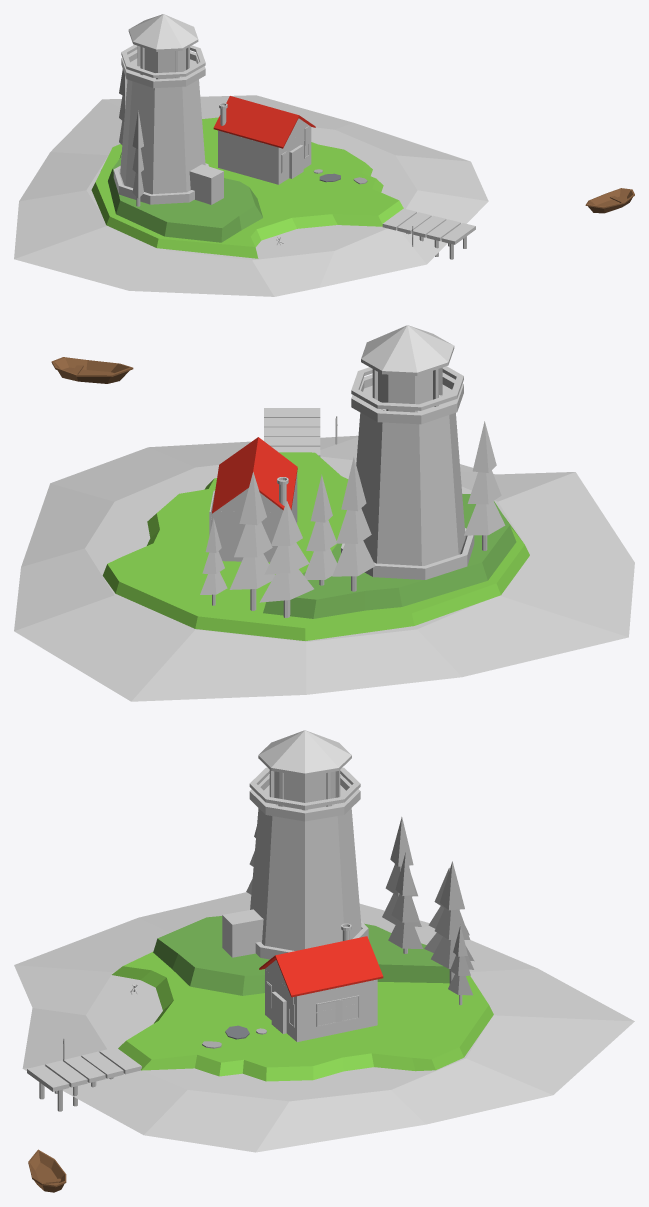
File: light_house.glb
3 renders of one model, top to bottom at view 1: azimuth 30°, elevation 25°; view 2: azimuth 150°, elevation 25°; view 3: azimuth 270°, elevation 25°, orthographic. The views are drawn at different scales.
Parts seen in each view (by area): view 1: Cylinder, Cylinder.010, Cylinder.001, Cylinder.002, Cube.005, Cube.008, Cube.010*.001, Cylinder.025, Cone.001, Cube.010*, Cube.004; view 2: Cylinder, Cylinder.010, Cylinder.001, Cylinder.002, Cube.008, Cone.002, Cone.003, Cone.004, Cone.001, Cone.005, Cube.005, Cylinder.025 (+6 smaller); view 3: Cylinder, Cylinder.001, Cylinder.010, Cylinder.002, Cube.008, Cube.005, Cone.002, Cone.005, Cube.010*.001, Cone.004, Cylinder.025, Cone (+1 smaller).
Boxes of the visible parts, x1,y1,x2,y2 form: Cylinder: (14, 95, 488, 296); Cylinder.010: (113, 14, 208, 204); Cylinder.001: (91, 117, 403, 258); Cylinder.002: (108, 153, 262, 242); Cube.005: (218, 127, 311, 184); Cube.008: (213, 96, 315, 148); Cube.010*.001: (189, 164, 223, 204); Cylinder.025: (585, 188, 634, 213); Cone.001: (132, 110, 143, 206); Cube.010*: (289, 145, 303, 178); Cube.004: (441, 223, 475, 244); Cylinder: (14, 435, 634, 701); Cylinder.010: (341, 325, 474, 579); Cylinder.001: (102, 452, 529, 640); Cylinder.002: (263, 494, 516, 618); Cube.008: (212, 437, 297, 513); Cone.002: (229, 472, 274, 610); Cone.003: (259, 501, 313, 617); Cone.004: (332, 457, 375, 591); Cone.001: (464, 421, 505, 550); Cone.005: (304, 474, 337, 585); Cube.005: (212, 472, 297, 562); Cylinder.025: (51, 357, 133, 383); Cylinder: (14, 892, 634, 1152); Cylinder.001: (112, 952, 493, 1081); Cylinder.010: (249, 730, 368, 959); Cylinder.002: (153, 916, 449, 995); Cube.008: (259, 936, 383, 997); Cube.005: (265, 969, 377, 1041); Cone.002: (431, 861, 473, 984); Cone.005: (388, 852, 422, 953); Cube.010*.001: (222, 909, 263, 957); Cone.004: (382, 817, 421, 926); Cylinder.025: (28, 1149, 66, 1192); Cone: (448, 925, 472, 1005).
Size of what is drawn, in the model's own units: 108 by 41.39 by 90.02.
